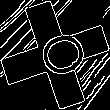O_W: (24, 26, 86, 84)
